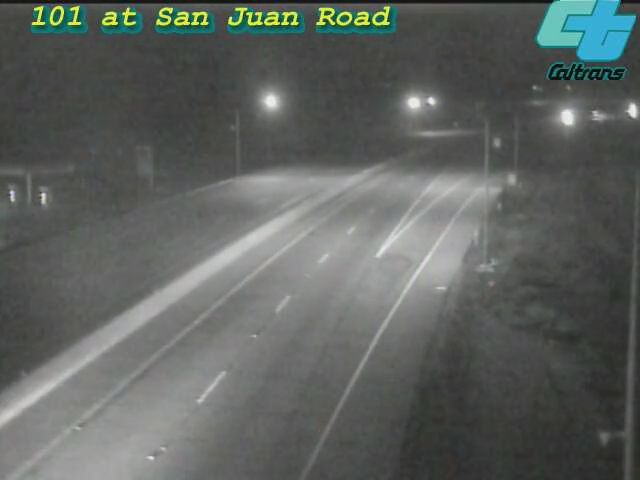vehicle: (576, 93, 626, 143), (543, 92, 593, 142), (607, 86, 640, 136)
